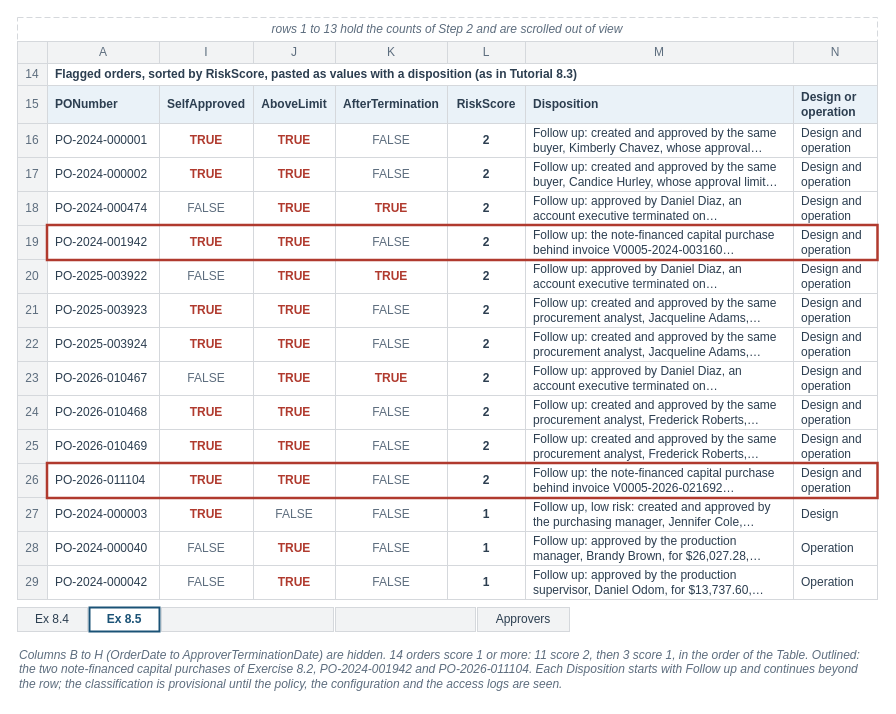
The diagram is 896 pixels wide and 714 high, and some of its shapes have lost their labels. The centre of each missing label's shape, as x and y in pixels:
Ex 8.5 Payments: point 405,619
Ex 8.5 Requisitions: point 247,619
